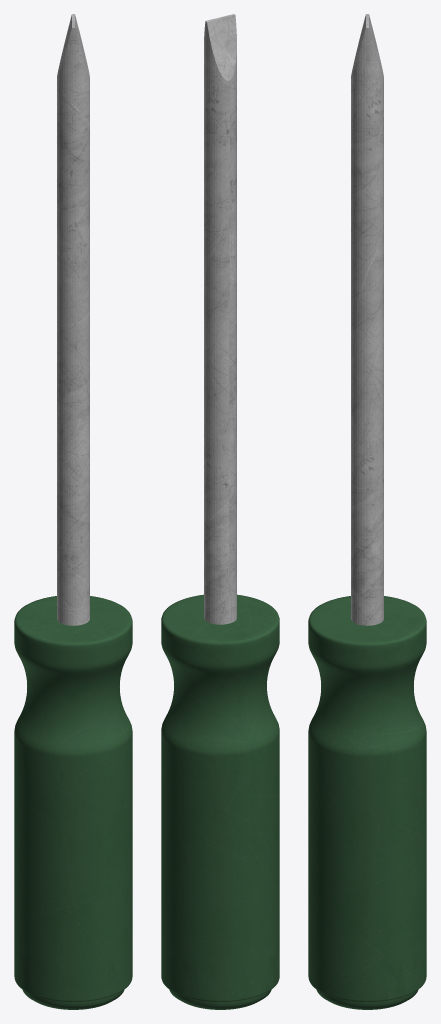
The model's file is IMS_FlatHeadScrewDriver_VR.fbx.
3 views of the same model, side by side, from view 1: azimuth 90°, elevation 25°; view 2: azimuth 210°, elevation 25°; view 3: azimuth 270°, elevation 25° (orthographic).
Parts seen in each view (by area): view 1: Handle, ScrewDriver; view 2: Handle, ScrewDriver; view 3: Handle, ScrewDriver.
Part boxes in pixels (box(x1,y1,x2,y2)): Handle: box(14, 596, 132, 1009); ScrewDriver: box(57, 14, 89, 625); Handle: box(161, 594, 279, 1009); ScrewDriver: box(204, 14, 236, 624); Handle: box(308, 596, 426, 1009); ScrewDriver: box(351, 14, 383, 625).
Bounding box in the file's own units: 22.77 × 208 × 22.77.
Materials: 2 (2 with a texture image).
